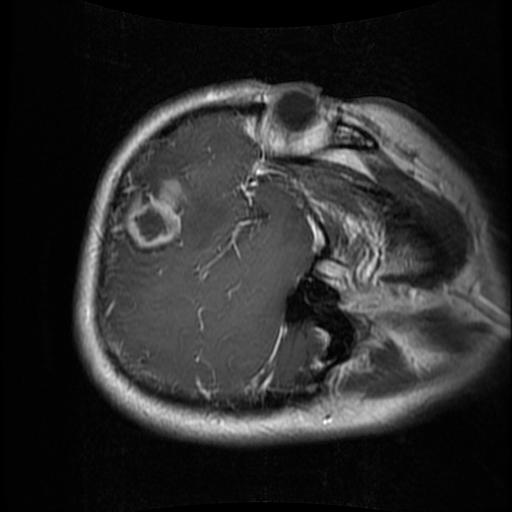glioma: (123, 176, 182, 255)
